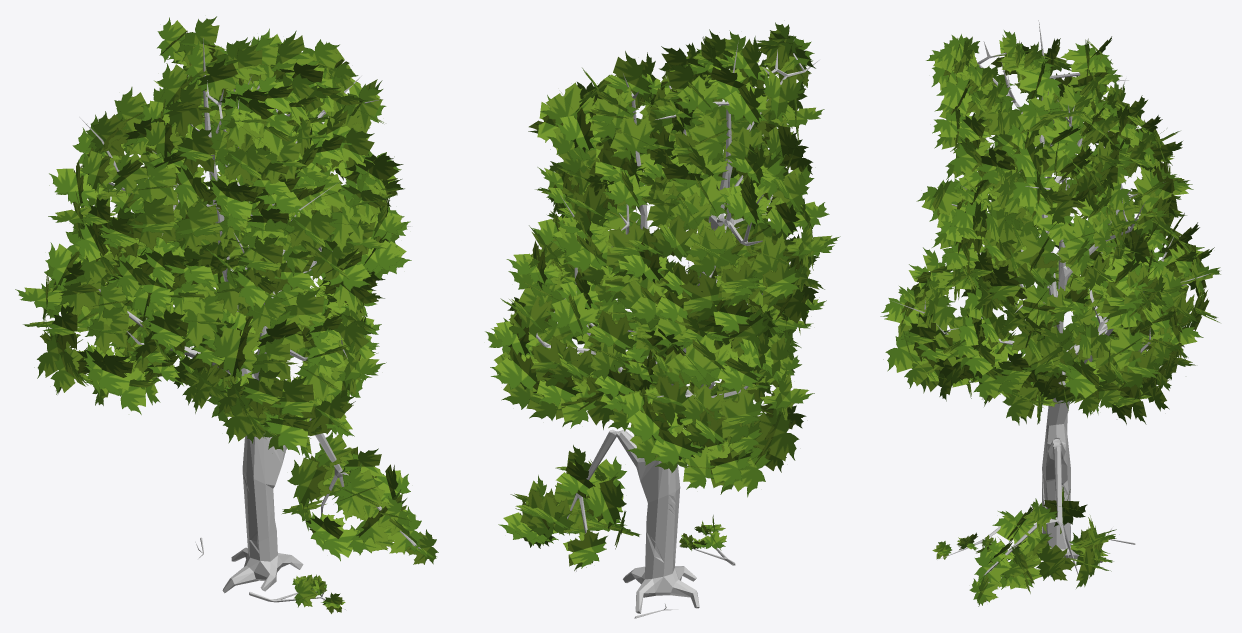
The model's file is SM_Maple_Damaged.fbx.
3 views of the same model, side by side, from view 1: azimuth 30°, elevation 25°; view 2: azimuth 150°, elevation 25°; view 3: azimuth 270°, elevation 25° (orthographic). The views are drawn at different scales.
Visible parts, largest first — view 1: SM_Maple_Damaged; view 2: SM_Maple_Damaged; view 3: SM_Maple_Damaged.
Part boxes in pixels (x1,y1,x2,y2): SM_Maple_Damaged: (15, 16, 438, 613); SM_Maple_Damaged: (485, 22, 840, 618); SM_Maple_Damaged: (880, 20, 1220, 606).
Size of the model in its own units: 616 by 983 by 605.
